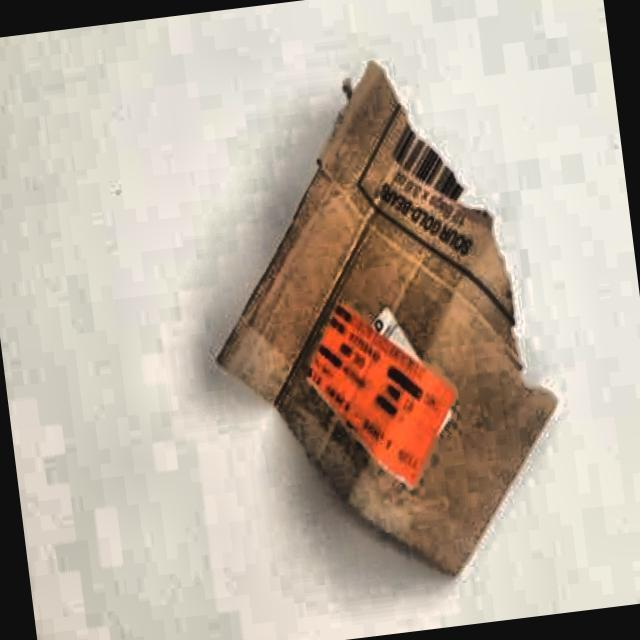cardboard: (182, 44, 578, 607)
